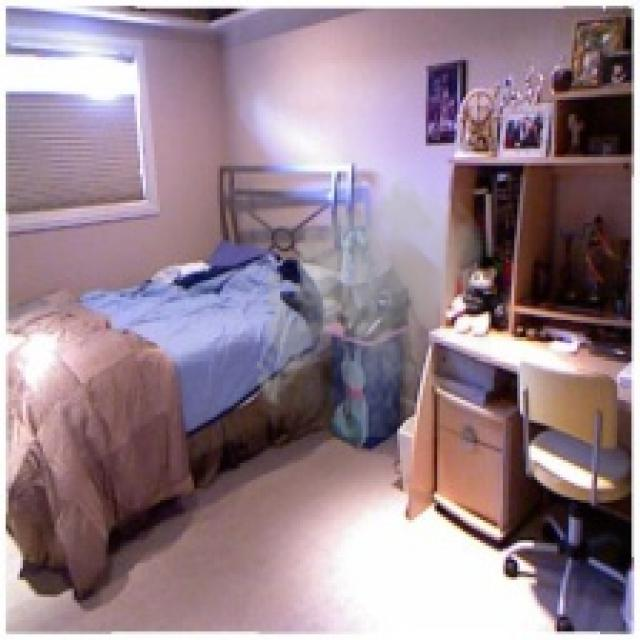smoke: (248, 169, 492, 437)
